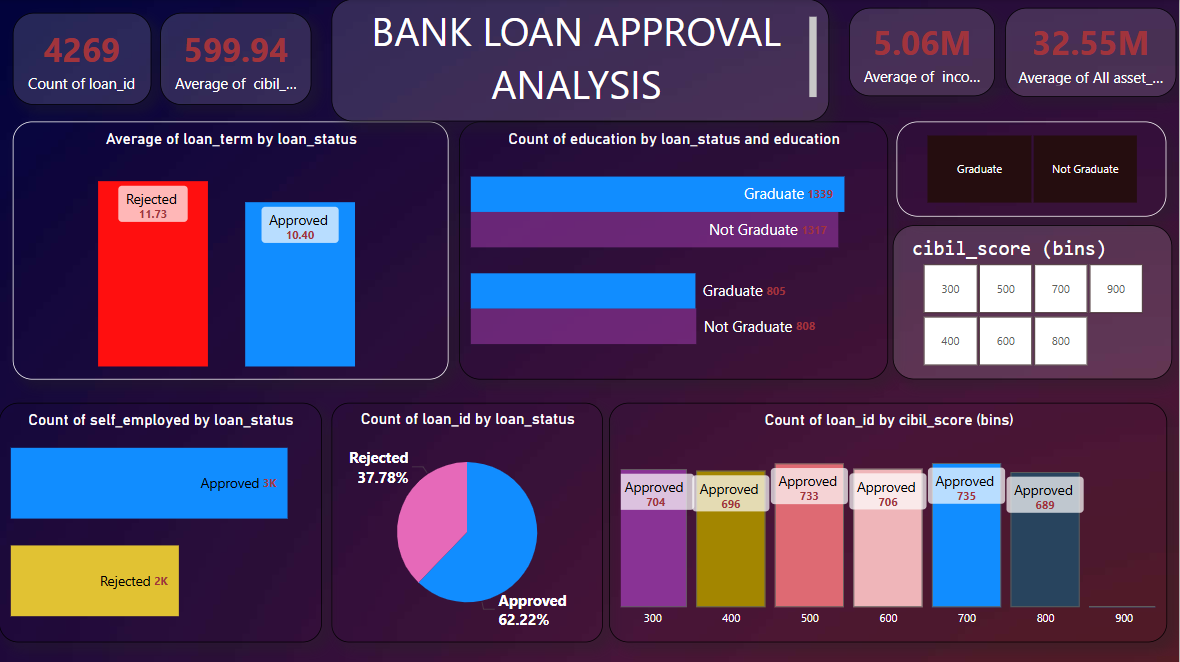

What the dashboard file says about the page in this screenshot:
{"tool":"powerbi","page":{"name":"Page 1","canvas":[1280,720],"ordinal":0},"visuals":[{"type":"pieChart","fields":{"Y":["CountNonNull(loan_approval_dataset.loan_id)"],"Category":["loan_approval_dataset. loan_status"]},"box":[361.4,438.6,294.3,260],"z":0},{"type":"clusteredBarChart","fields":{"Category":["loan_approval_dataset. loan_status"],"Series":["loan_approval_dataset. education"],"Y":["CountNonNull(loan_approval_dataset. education)"]},"box":[498.6,132.9,465.7,280],"z":1000},{"type":"barChart","fields":{"Category":["loan_approval_dataset. loan_status"],"Y":["CountNonNull(loan_approval_dataset. self_employed)"]},"box":[0,438.6,350,260],"z":2000},{"type":"lineClusteredColumnComboChart","fields":{"Category":["loan_approval_dataset.cibil_score (bins)"],"Y":["CountNonNull(loan_approval_dataset.loan_id)"]},"box":[661.4,438.6,605.7,260],"z":3000},{"type":"card","fields":{"Values":["CountNonNull(loan_approval_dataset.loan_id)"]},"box":[14.3,14.3,150,100],"z":4000},{"type":"card","fields":{"Values":["Avg(loan_approval_dataset. cibil_score)"]},"box":[174.3,14.3,164.3,100],"z":5000},{"type":"card","fields":{"Values":["Avg(loan_approval_dataset. income_annum)"]},"box":[922.9,10,158.6,95.7],"z":6000},{"type":"card","fields":{"Values":["Avg(loan_approval_dataset.All asset_Column)"]},"box":[1091.4,10,185.7,97.1],"z":7000},{"type":"lineStackedColumnComboChart","fields":{"Category":["loan_approval_dataset. loan_status"],"Y":["Avg(loan_approval_dataset. loan_term)"]},"box":[14.3,132.9,472.9,280],"z":8000},{"type":"slicer","fields":{"Values":["loan_approval_dataset. education"]},"box":[974.3,132.9,292.9,102.9],"z":9000},{"type":"slicer","fields":{"Values":["loan_approval_dataset.cibil_score (bins)"]},"box":[970,245.7,302.9,167.1],"z":10000},{"type":"textbox","box":[360.8,0,539.8,132.9],"z":11000}]}

Visuals, with their boxes in screenshot pixels (x1, y1, x2, y2), scaled from the page's 1280x720 canvas onto the 1180x662 screenshot:
pieChart - CountNonNull(loan_approval_dataset.loan_id) x loan_approval_dataset. loan_status: 333,403,604,642
clusteredBarChart - loan_approval_dataset. loan_status x loan_approval_dataset. education: 460,122,889,380
barChart - loan_approval_dataset. loan_status x CountNonNull(loan_approval_dataset. self_employed): 0,403,323,642
lineClusteredColumnComboChart - loan_approval_dataset.cibil_score (bins) x CountNonNull(loan_approval_dataset.loan_id): 610,403,1168,642
card - CountNonNull(loan_approval_dataset.loan_id): 13,13,151,105
card - Avg(loan_approval_dataset. cibil_score): 161,13,312,105
card - Avg(loan_approval_dataset. income_annum): 851,9,997,97
card - Avg(loan_approval_dataset.All asset_Column): 1006,9,1177,98
lineStackedColumnComboChart - loan_approval_dataset. loan_status x Avg(loan_approval_dataset. loan_term): 13,122,449,380
slicer - loan_approval_dataset. education: 898,122,1168,217
slicer - loan_approval_dataset.cibil_score (bins): 894,226,1173,380
textbox: 333,0,830,122
